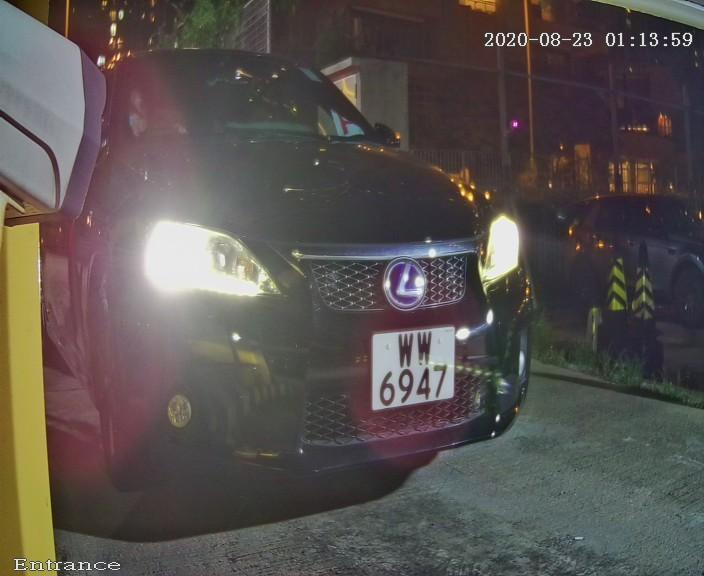Car: (1, 13, 576, 515)
License Plate: (342, 308, 474, 426)
